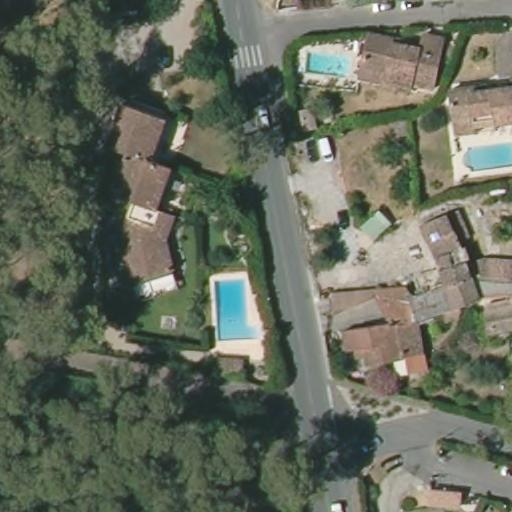pool: (204, 270, 262, 345), (298, 45, 359, 85), (460, 139, 511, 173)
